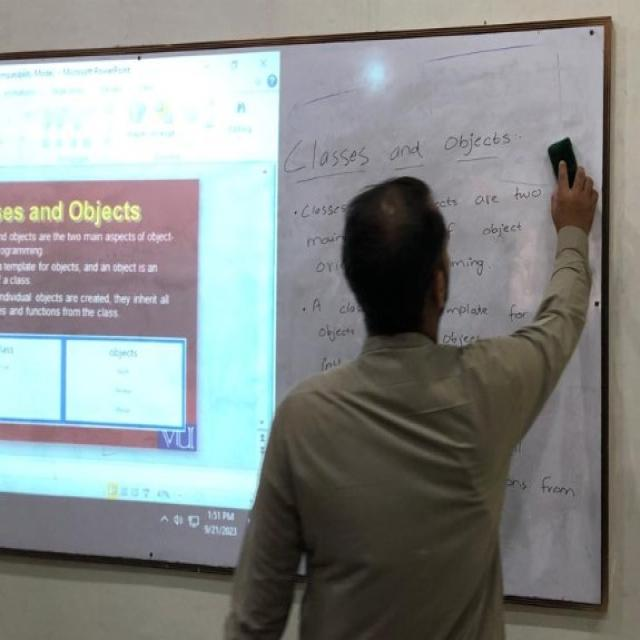Instructor: (306, 165, 523, 640)
Slide: (0, 42, 285, 564)
White-board: (0, 25, 610, 606)
